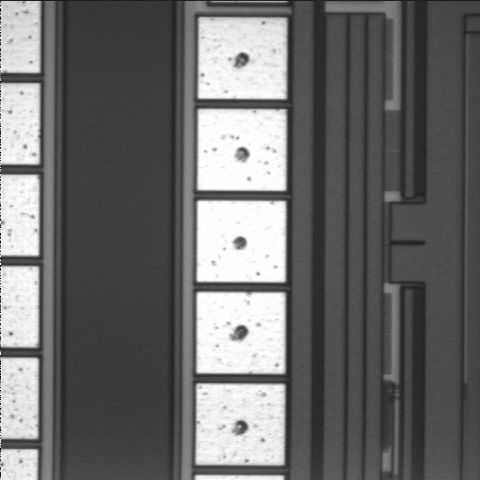pad: (198, 17, 287, 99), (197, 109, 286, 191), (197, 292, 285, 374), (197, 201, 286, 282), (196, 384, 285, 465)
